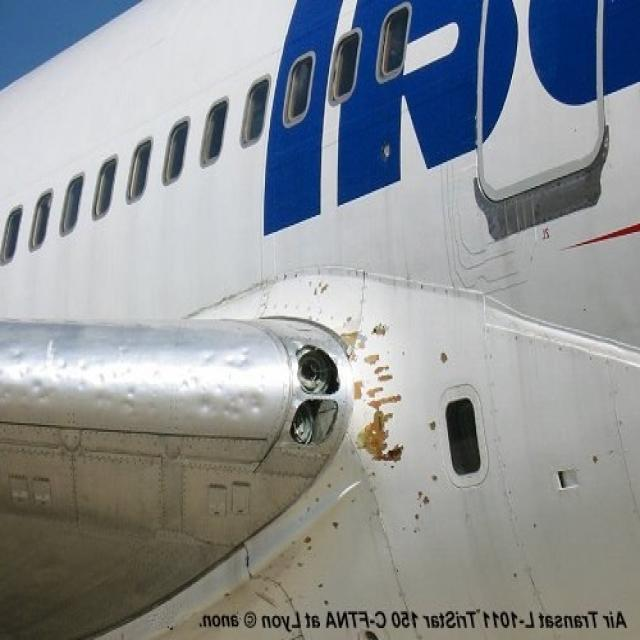dent: (1, 340, 270, 422)
